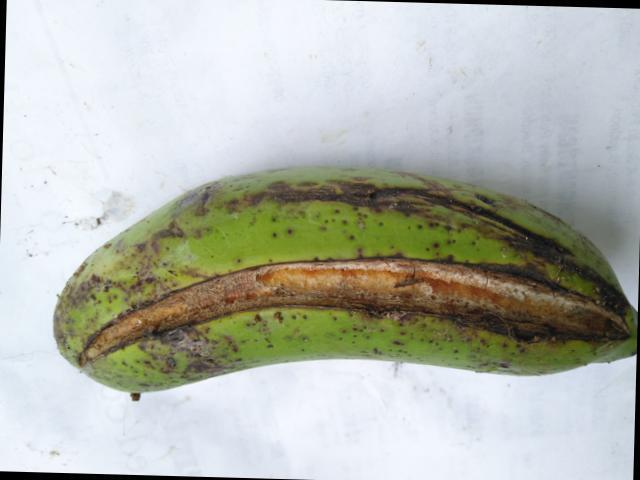rotten: (73, 249, 639, 378)
